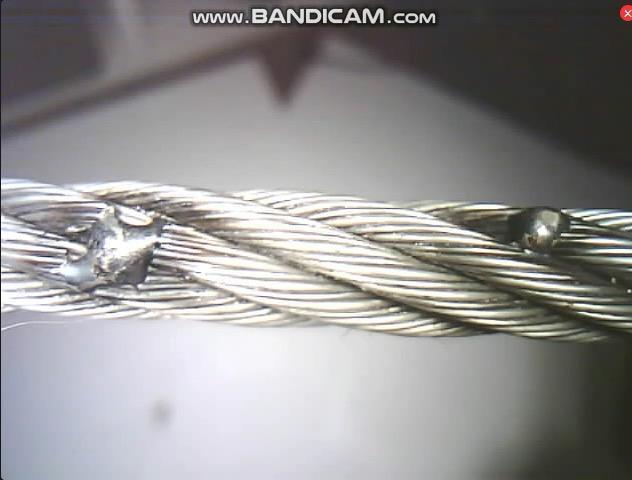thunderbolt: (50, 200, 191, 295), (498, 203, 585, 262)
